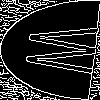W: (25, 25, 100, 75)
